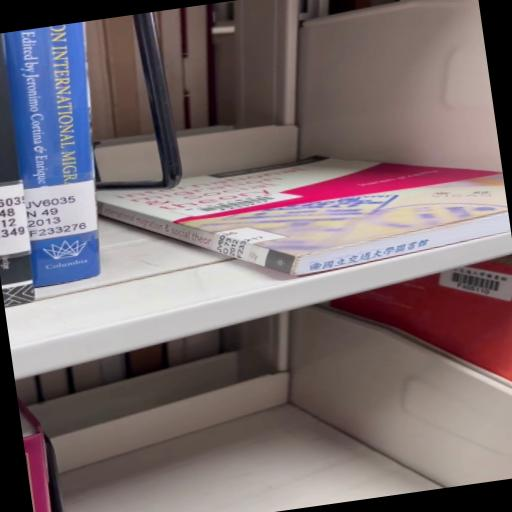flat: (98, 157, 511, 276)
